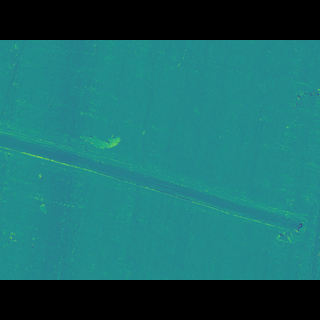Loch: (0, 130, 306, 225)
